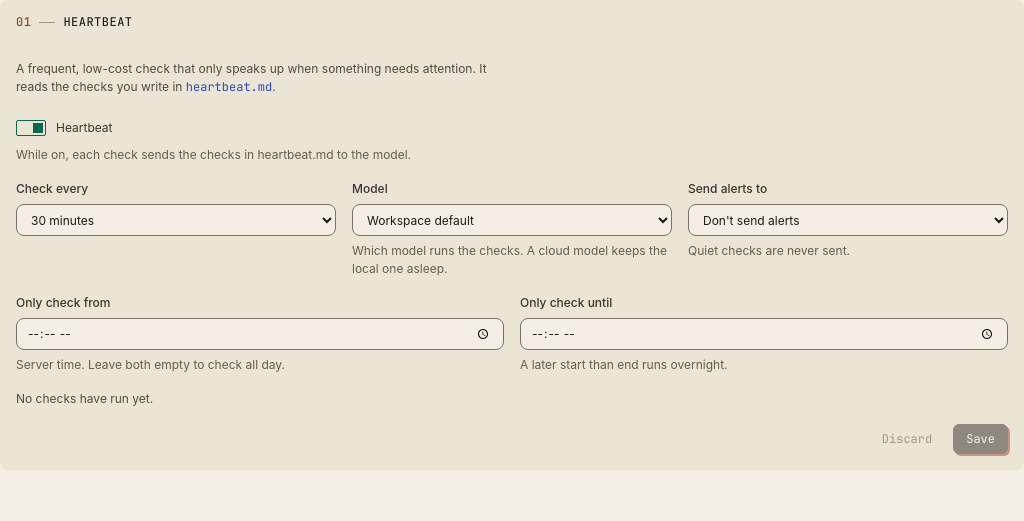
Test: HeartbeatPanel › will not save a half-filled window, and says why
Type "08:00" into the time field labelled "Only check from" at (260, 334), box [16,318,504,350]
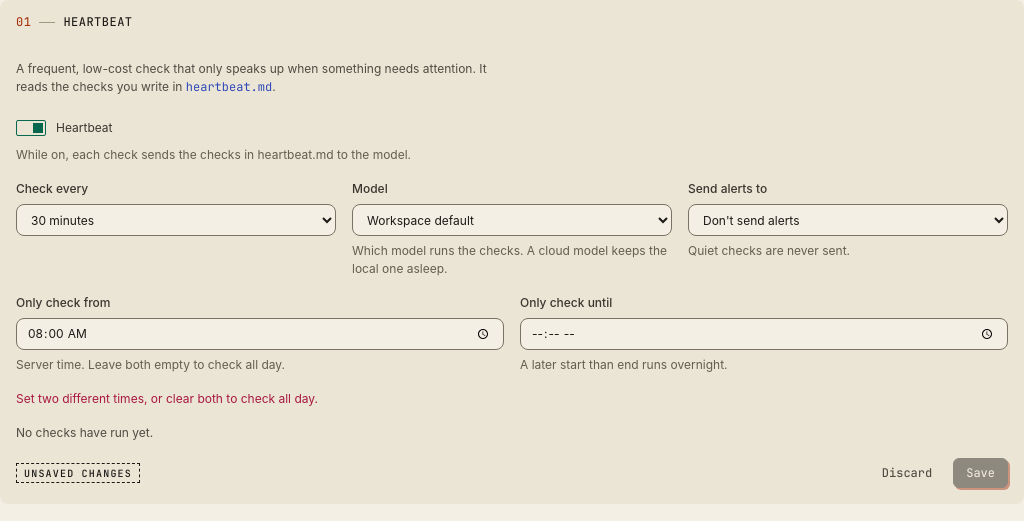
Expected: the button "Save" is disabled, [953,458,1008,488]
Now the text "two different times" is shown, box [16,391,318,406]
Type "22:00" into the time field labelled "Only check until" at (764, 334), box [520,318,1008,350]
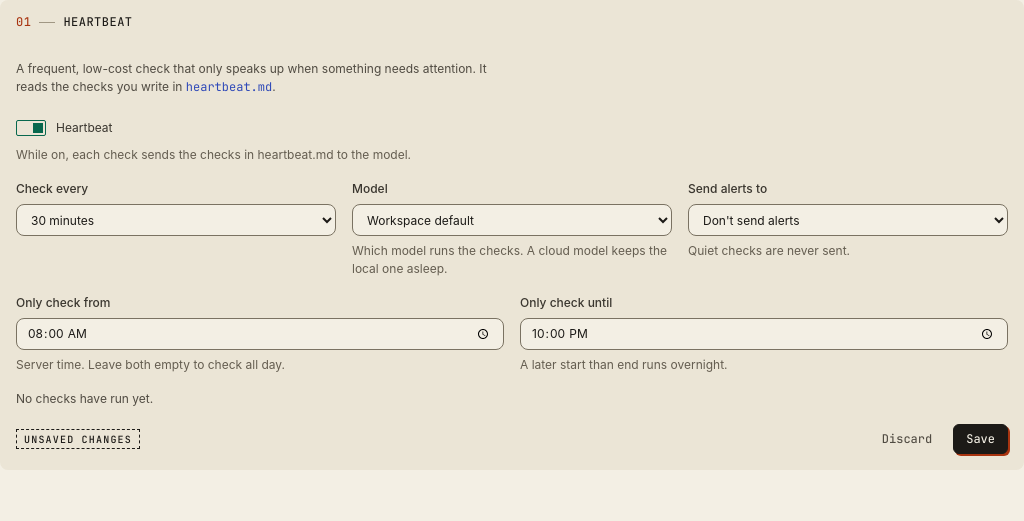
Now the button "Save" is enabled, box [953,424,1008,454]
